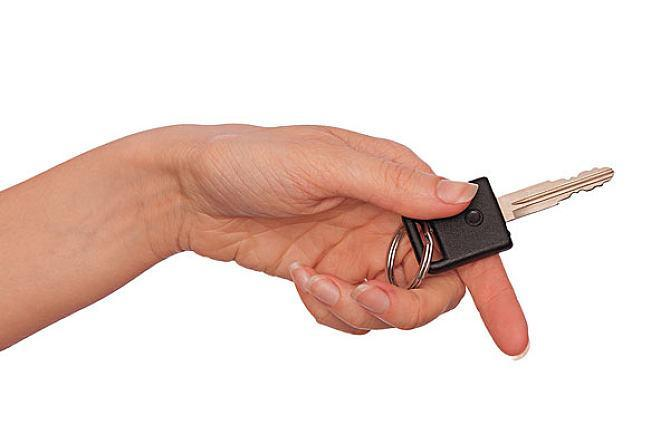key: (373, 148, 634, 296)
